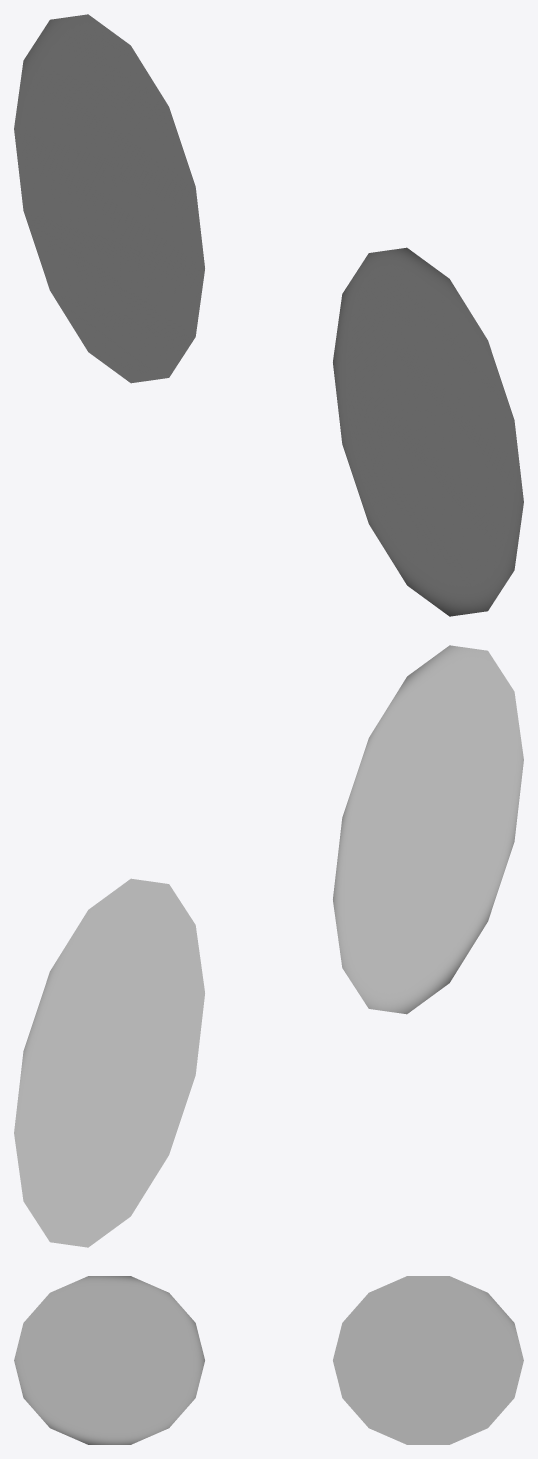
The model's file is eyes.fbx.
The picture shows the model from 3 angles, top to bottom: view 1: azimuth 30°, elevation 25°; view 2: azimuth 150°, elevation 25°; view 3: azimuth 270°, elevation 25°; orthographic projection. The views are drawn at different scales.
Visible parts, largest first — view 1: eyes; view 2: eyes; view 3: eyes.
Boxes of the visible parts, x1=… form: eyes: x1=14, y1=14, x2=523, y2=616; eyes: x1=14, y1=645, x2=523, y2=1247; eyes: x1=14, y1=1276, x2=523, y2=1444.
Bounding box in the file's own units: 1.27e-08 × 0.1679 × 0.4594.
